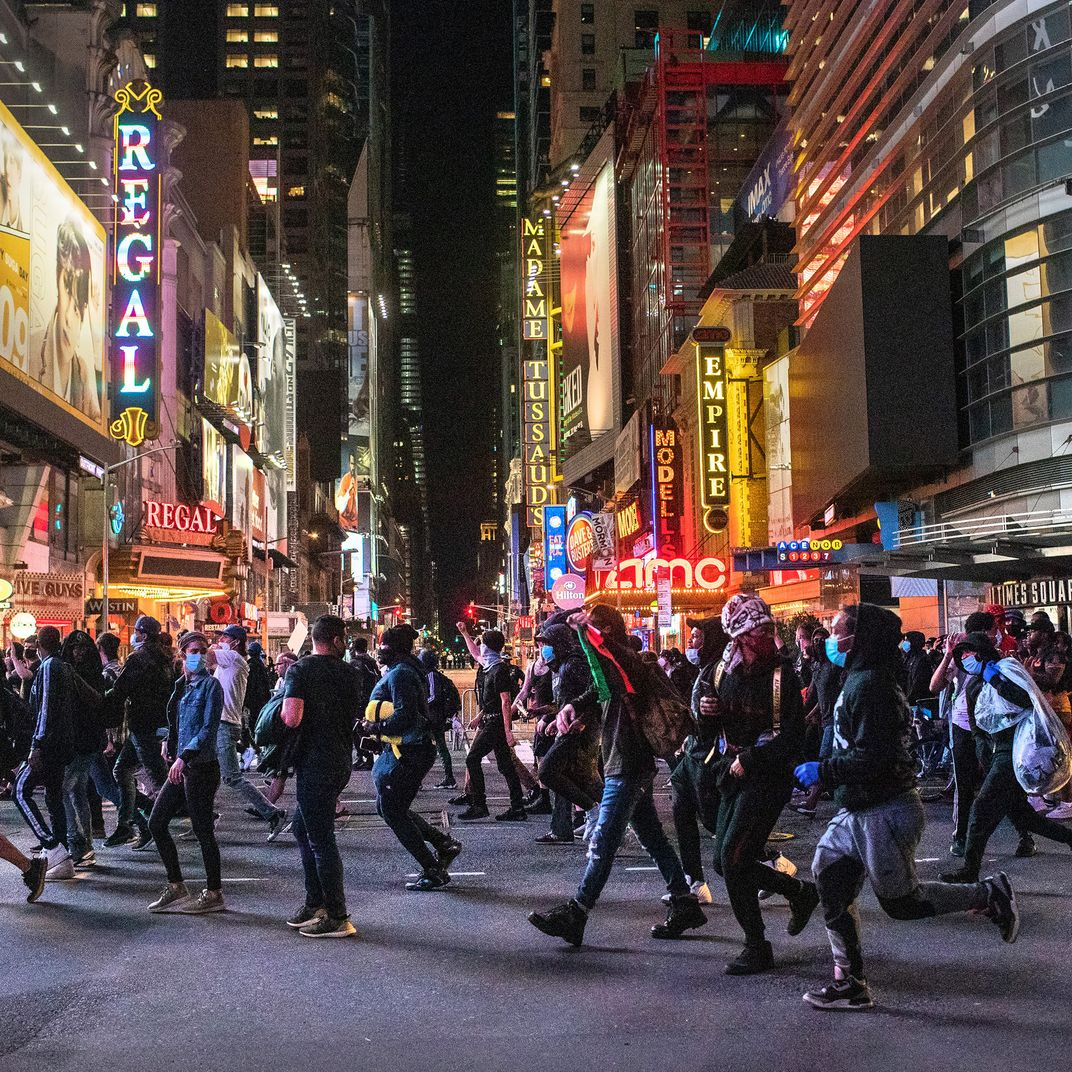mask_weared_incorrect: (741, 620, 779, 661), (681, 625, 710, 667), (955, 641, 985, 679)
with_mask: (818, 613, 856, 673), (177, 639, 210, 675)
